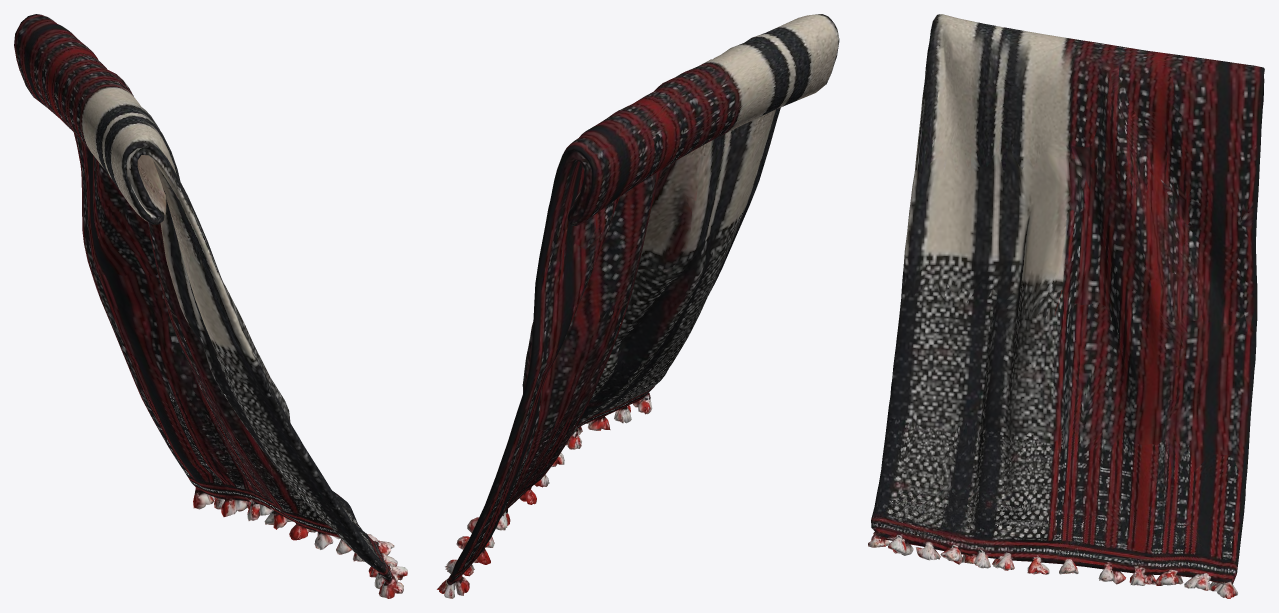
The model's file is Uloh-512(10k).glb.
The picture shows the model from 3 angles, left to right: view 1: azimuth 30°, elevation 25°; view 2: azimuth 150°, elevation 25°; view 3: azimuth 270°, elevation 25°; orthographic projection. The views are drawn at different scales.
Visible parts, largest first — view 1: tripo_node_6f8b869c-6db4-4db8-9c16-4b165f2483c6; view 2: tripo_node_6f8b869c-6db4-4db8-9c16-4b165f2483c6; view 3: tripo_node_6f8b869c-6db4-4db8-9c16-4b165f2483c6.
Boxes of the visible parts, x1=… form: tripo_node_6f8b869c-6db4-4db8-9c16-4b165f2483c6: x1=14, y1=14, x2=407, y2=598; tripo_node_6f8b869c-6db4-4db8-9c16-4b165f2483c6: x1=437, y1=14, x2=839, y2=598; tripo_node_6f8b869c-6db4-4db8-9c16-4b165f2483c6: x1=868, y1=14, x2=1264, y2=598.
Size of the model in its own units: 0.5356 by 0.9788 by 0.7272.
Materials: 1 (1 with a texture image).
